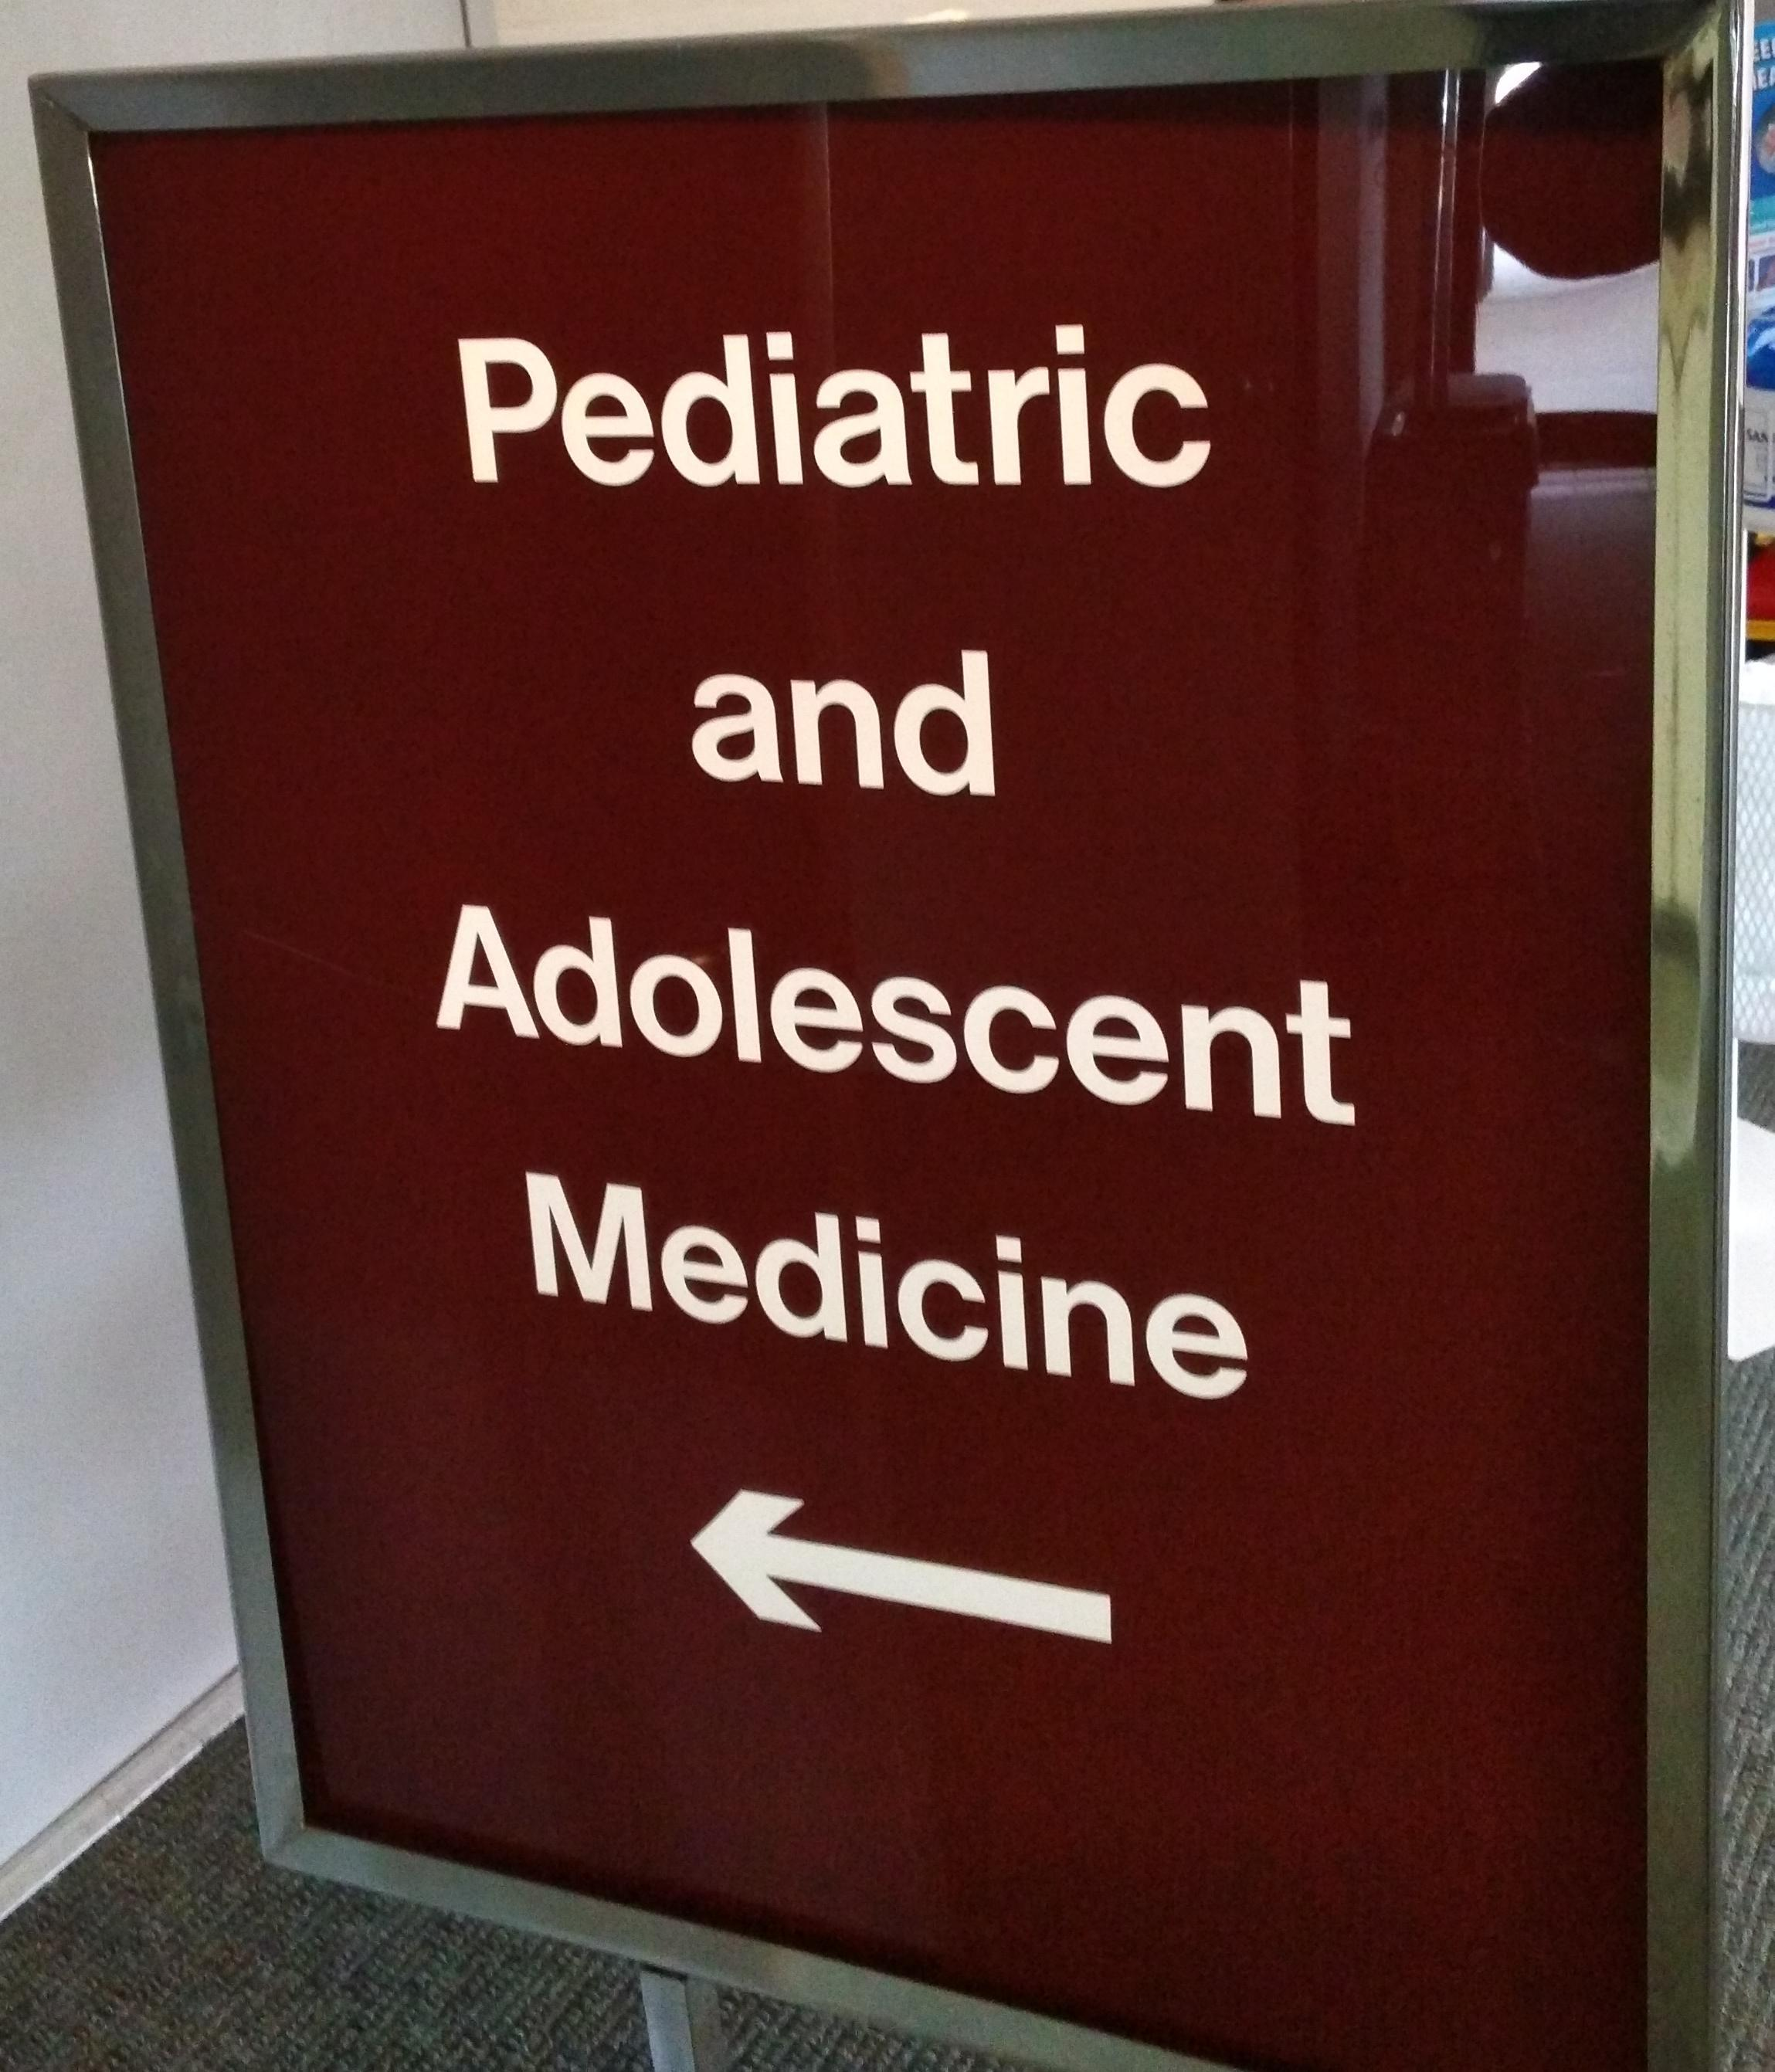sign: (32, 0, 1726, 2072)
